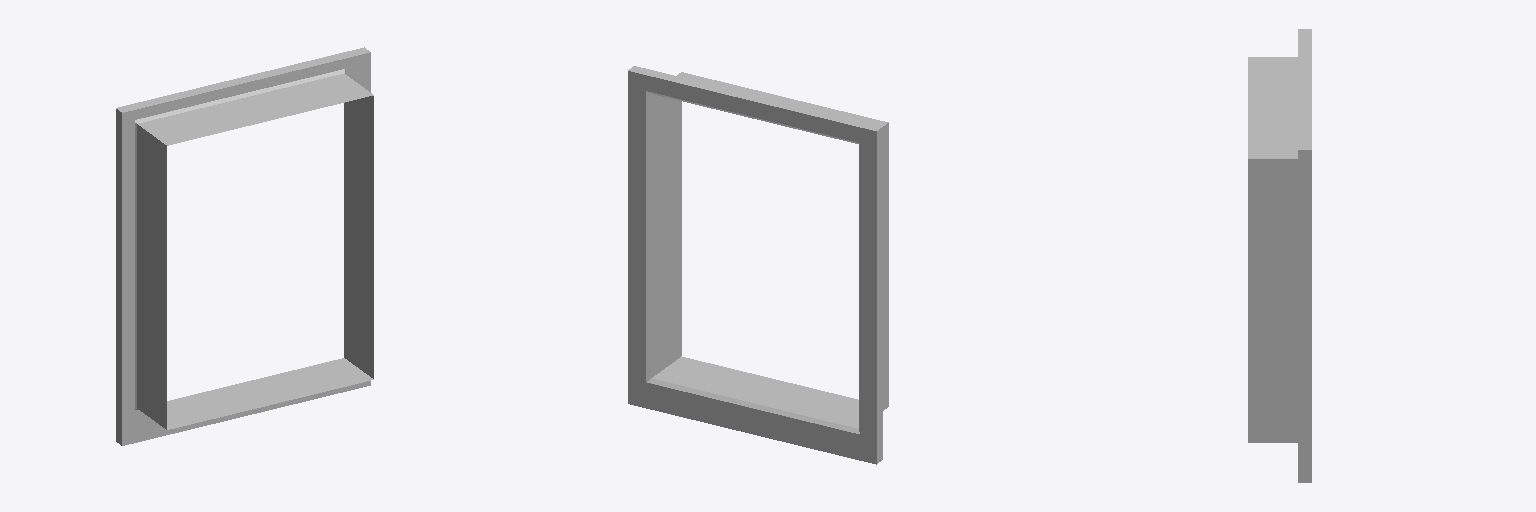
Rendered from window frame.obj.
3 renders of one model, left to right at view 1: azimuth 30°, elevation 25°; view 2: azimuth 150°, elevation 25°; view 3: azimuth 270°, elevation 25°, orthographic.
Visible parts, largest first — view 1: window_frame_WINDOW_FRamegroup26; view 2: window_frame_WINDOW_FRamegroup26; view 3: window_frame_WINDOW_FRamegroup26.
Boxes of the visible parts, x1,y1,x2,y2 form: window_frame_WINDOW_FRamegroup26: [116, 47, 373, 445]; window_frame_WINDOW_FRamegroup26: [628, 66, 888, 464]; window_frame_WINDOW_FRamegroup26: [1248, 29, 1311, 482].
Bounding box in the file's own units: 288 × 368 × 63.86.